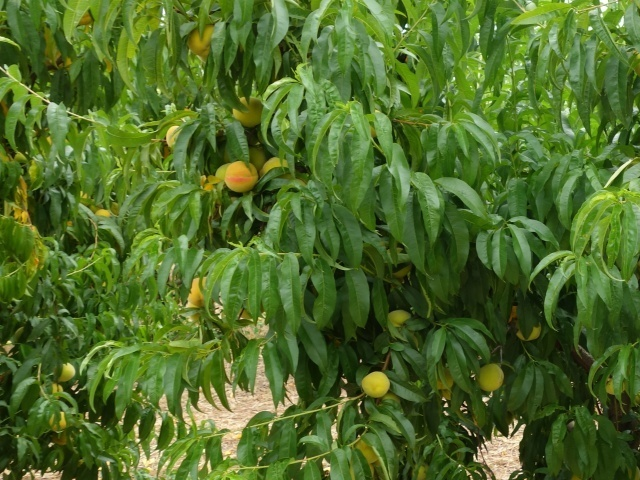peach: (180, 273, 222, 310), (226, 93, 265, 131), (222, 159, 261, 194), (184, 23, 219, 59), (358, 367, 392, 401), (473, 360, 507, 392), (234, 143, 268, 172), (256, 157, 294, 182), (513, 319, 545, 347), (381, 306, 414, 332), (430, 366, 456, 396), (353, 437, 379, 466), (44, 409, 70, 435), (162, 123, 185, 152), (51, 361, 78, 385), (601, 372, 626, 396)
